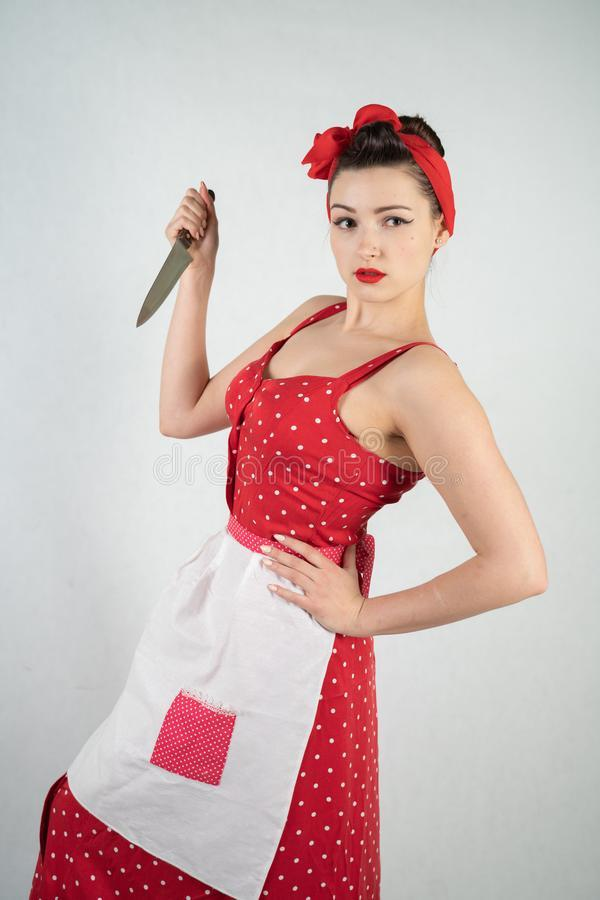criminal: (27, 98, 552, 900)
weapon: (131, 180, 216, 333)
